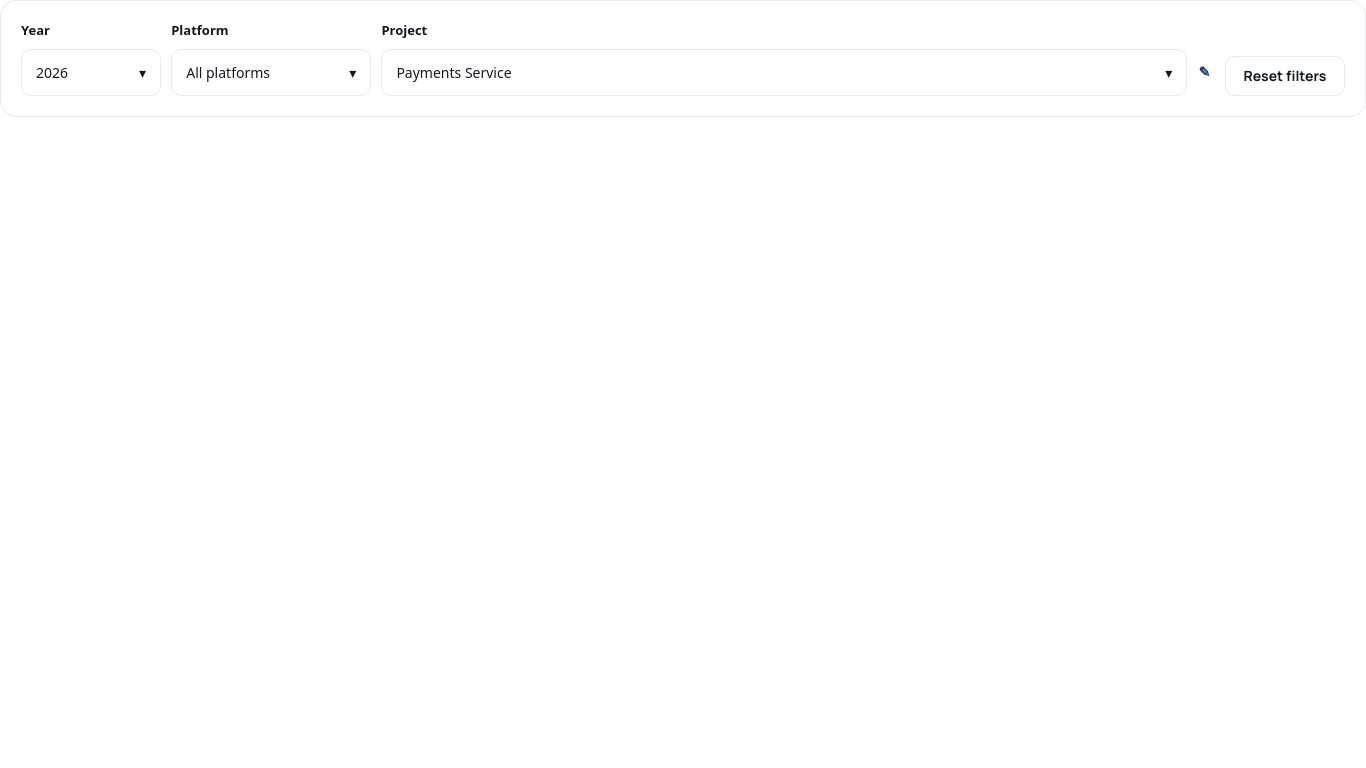
shows a rename button when a specific project is selected, pre-filled with its current name
What coordinates should you click on to do the following:
click the button named "rename"
I would click on:
 (1204, 72)
Its box is [1194,48,1215,96].
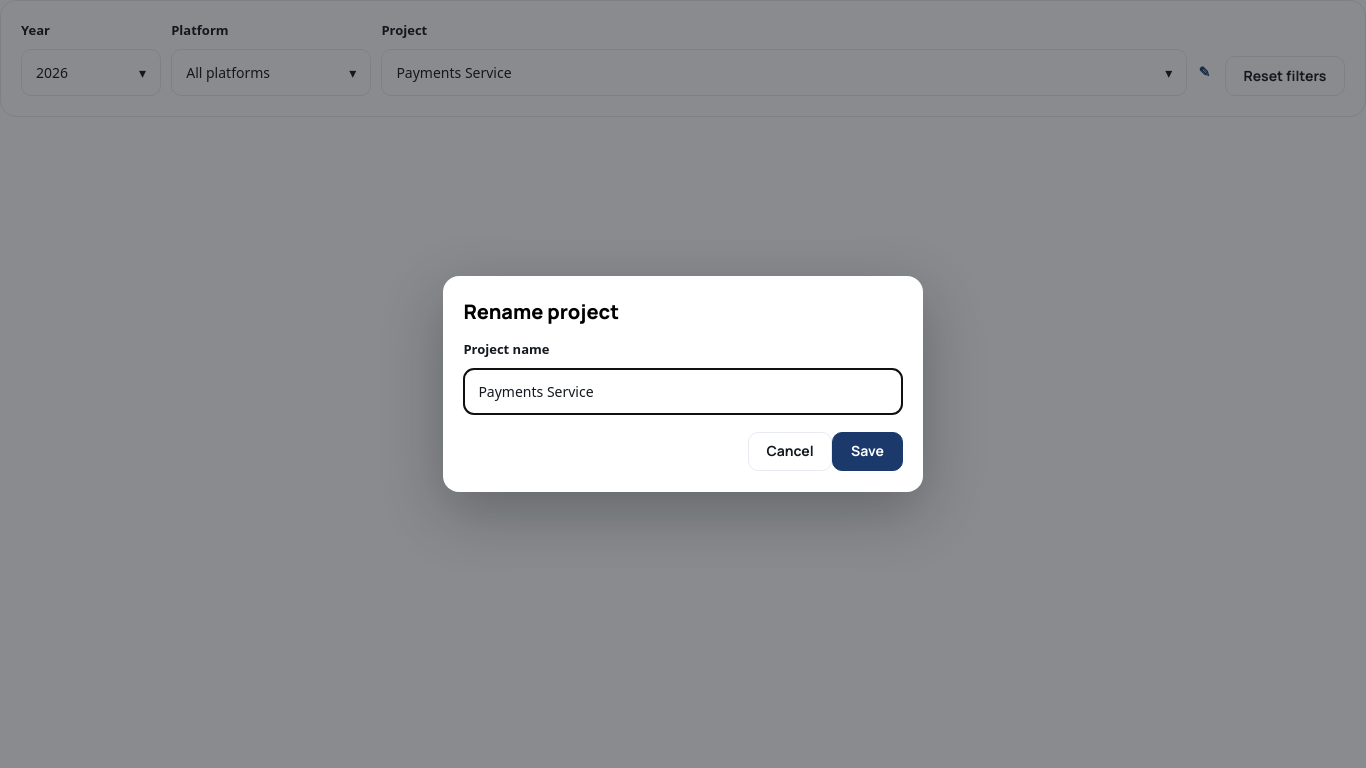
Now the field labelled "Project name" holds "Payments Service", box [463,368,903,415]
